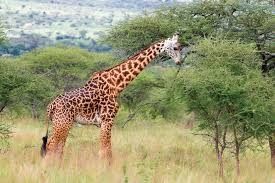giraffe: (33, 29, 187, 183)
